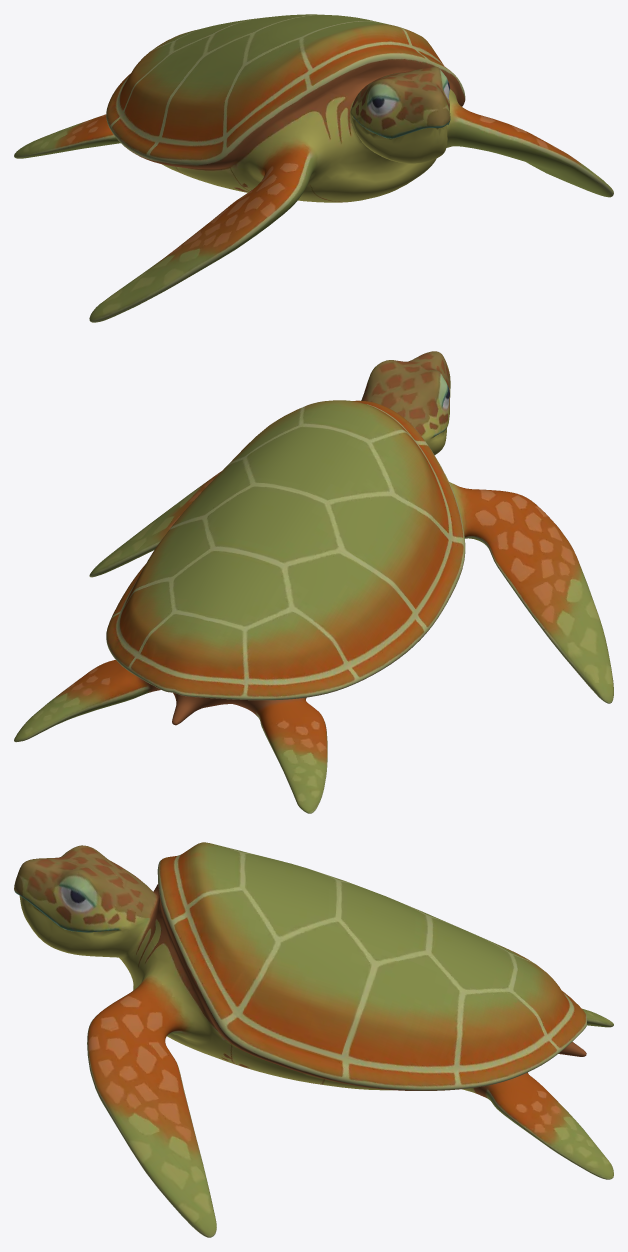
The model's file is sea-turtle_lod1.glb.
3 renders of one model, top to bottom at view 1: azimuth 30°, elevation 25°; view 2: azimuth 150°, elevation 25°; view 3: azimuth 270°, elevation 25°, orthographic. The views are drawn at different scales.
Visible parts, largest first — view 1: sea_turtle.1; view 2: sea_turtle.1; view 3: sea_turtle.1.
Boxes of the visible parts, x1,y1,x2,y2 form: sea_turtle.1: [14, 14, 613, 322]; sea_turtle.1: [14, 351, 613, 813]; sea_turtle.1: [14, 842, 613, 1237].
Bounding box in the file's own units: 0.117 × 0.0499 × 0.1093.
1 material, 1 textured.
